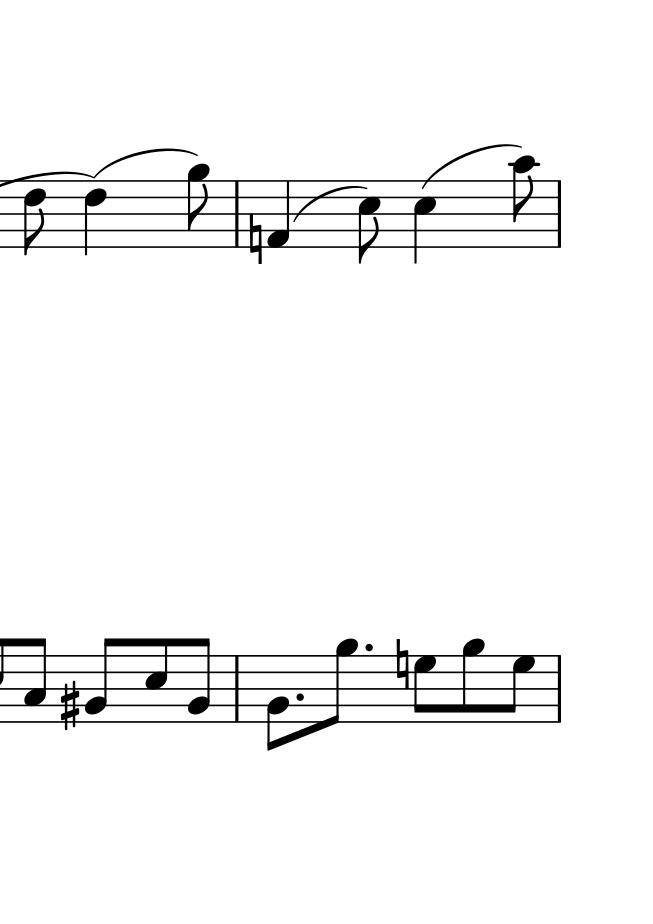4_1: (267, 179, 292, 251)
4_5: (413, 179, 438, 264)
4_6: (83, 179, 111, 254)
8_10: (511, 153, 538, 252)
8_2: (83, 636, 120, 726), (264, 653, 290, 751), (186, 636, 213, 726)
8_3: (24, 635, 49, 726)
8_5: (143, 636, 170, 726), (357, 179, 382, 267)
8_6: (22, 180, 49, 258)
8_7: (504, 654, 538, 724), (411, 653, 437, 725)
8_9: (323, 637, 360, 727), (460, 639, 486, 725), (185, 161, 209, 250)
Natural: (248, 213, 264, 265), (395, 639, 410, 691)
Sharp: (58, 679, 81, 733)
Single_barline: (227, 180, 244, 245), (550, 180, 566, 247), (551, 656, 566, 722), (229, 655, 243, 722)
Slur: (418, 140, 526, 191), (96, 147, 198, 178), (293, 183, 369, 223)
dot: (294, 691, 306, 704), (363, 642, 374, 654)
